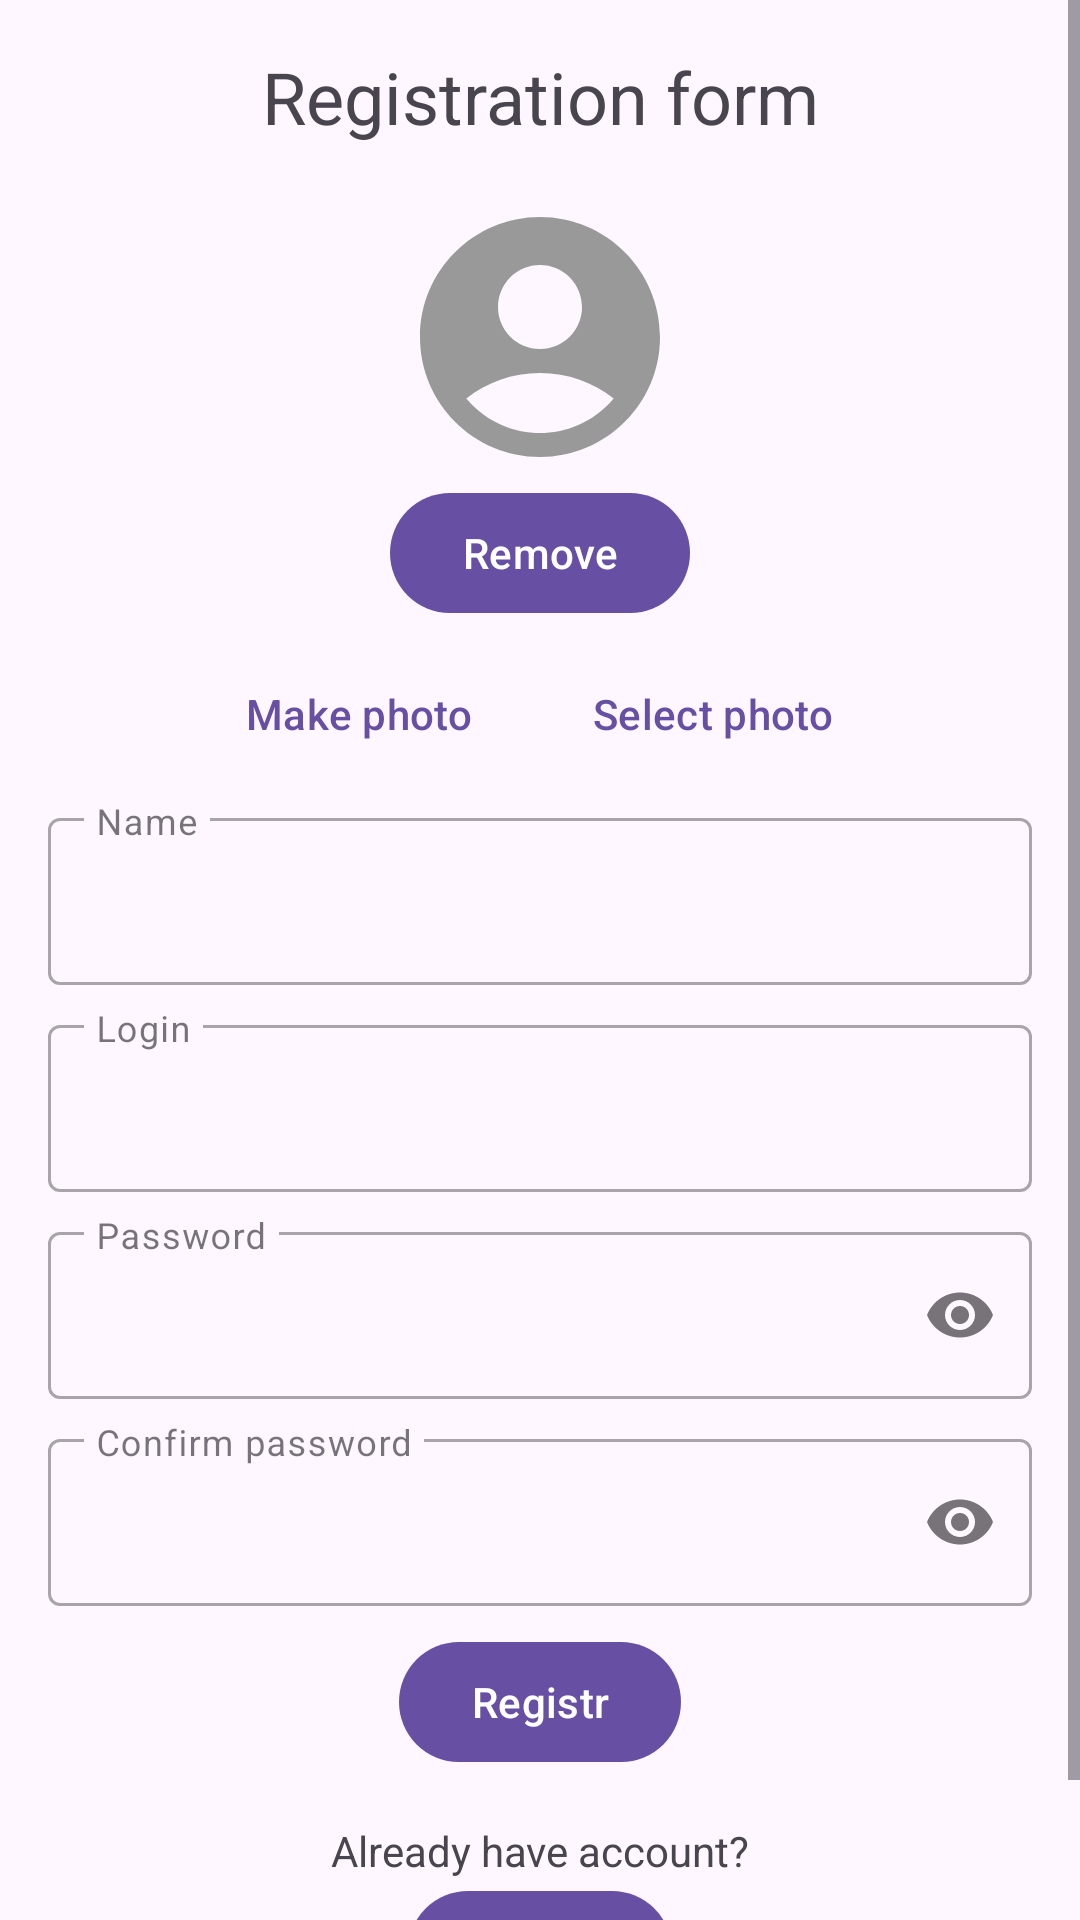

Named icons in this screenshot (1080*1920) and their bounding boxes, rect(x1, y1, x2, y2):
account circle: rect(420, 217, 660, 457)
